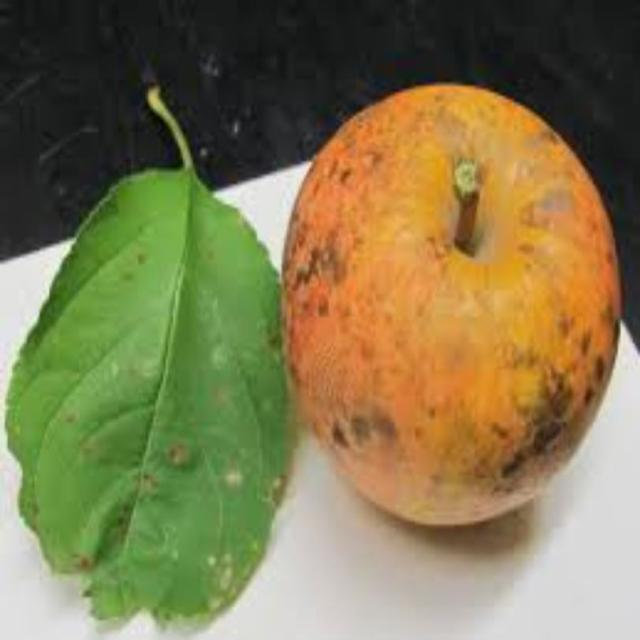Rotten Apple: (278, 53, 626, 556)
